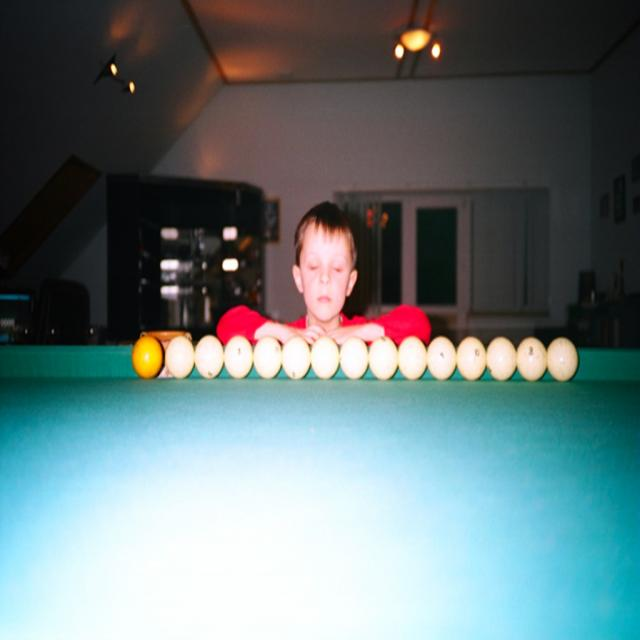Ball: (131, 337, 579, 379)
Billiard table: (0, 347, 639, 639)
